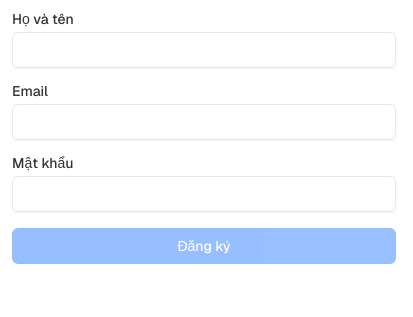
Scenario: SignupForm › shows an error message when sign-up fails
Step 1. Type "Nguyen Van A" into the field labelled "Họ và tên" → (204, 50), box [12,32,396,68]
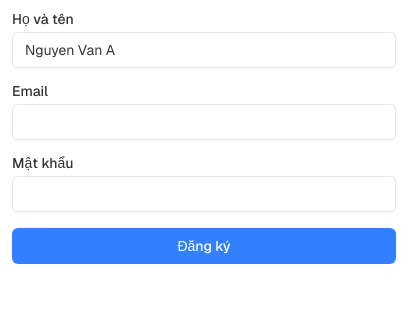
Step 2. Type "a@b.com" into the field labelled "Email" → (204, 122), box [12,104,396,140]
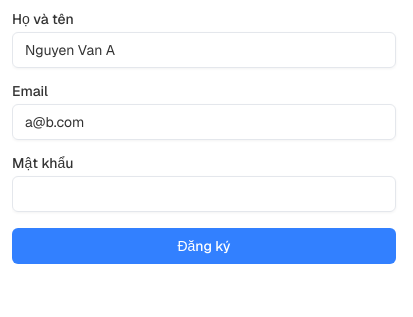
Step 3. Type "password123" into the password field labelled "Mật khẩu" → (204, 194), box [12,176,396,212]
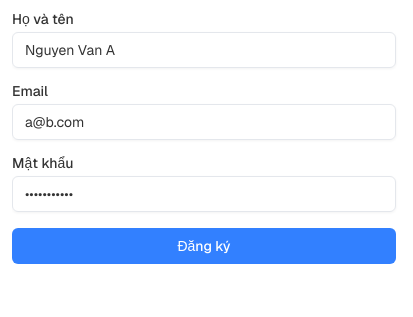
Step 4. Click the button "Đăng ký" → (204, 246), box [12,228,396,264]
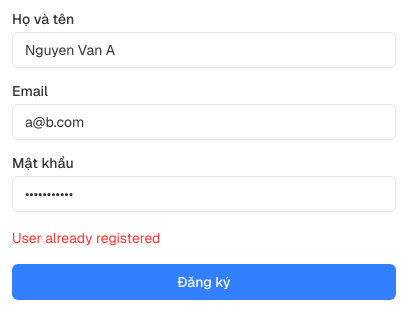
Now the text "User already registered" is shown, box [12,229,160,247]
